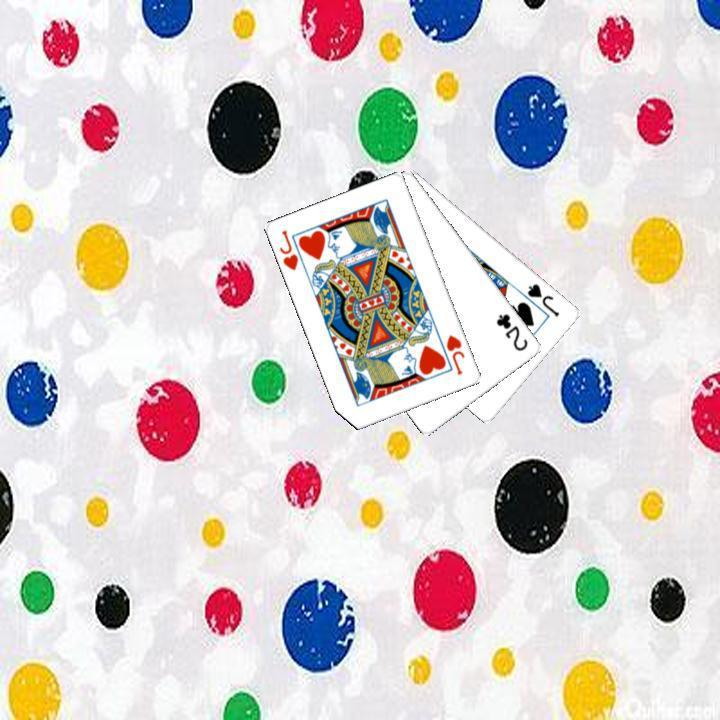2: (492, 309, 530, 353)
J: (523, 279, 562, 319), (275, 226, 301, 272), (442, 330, 467, 377)
